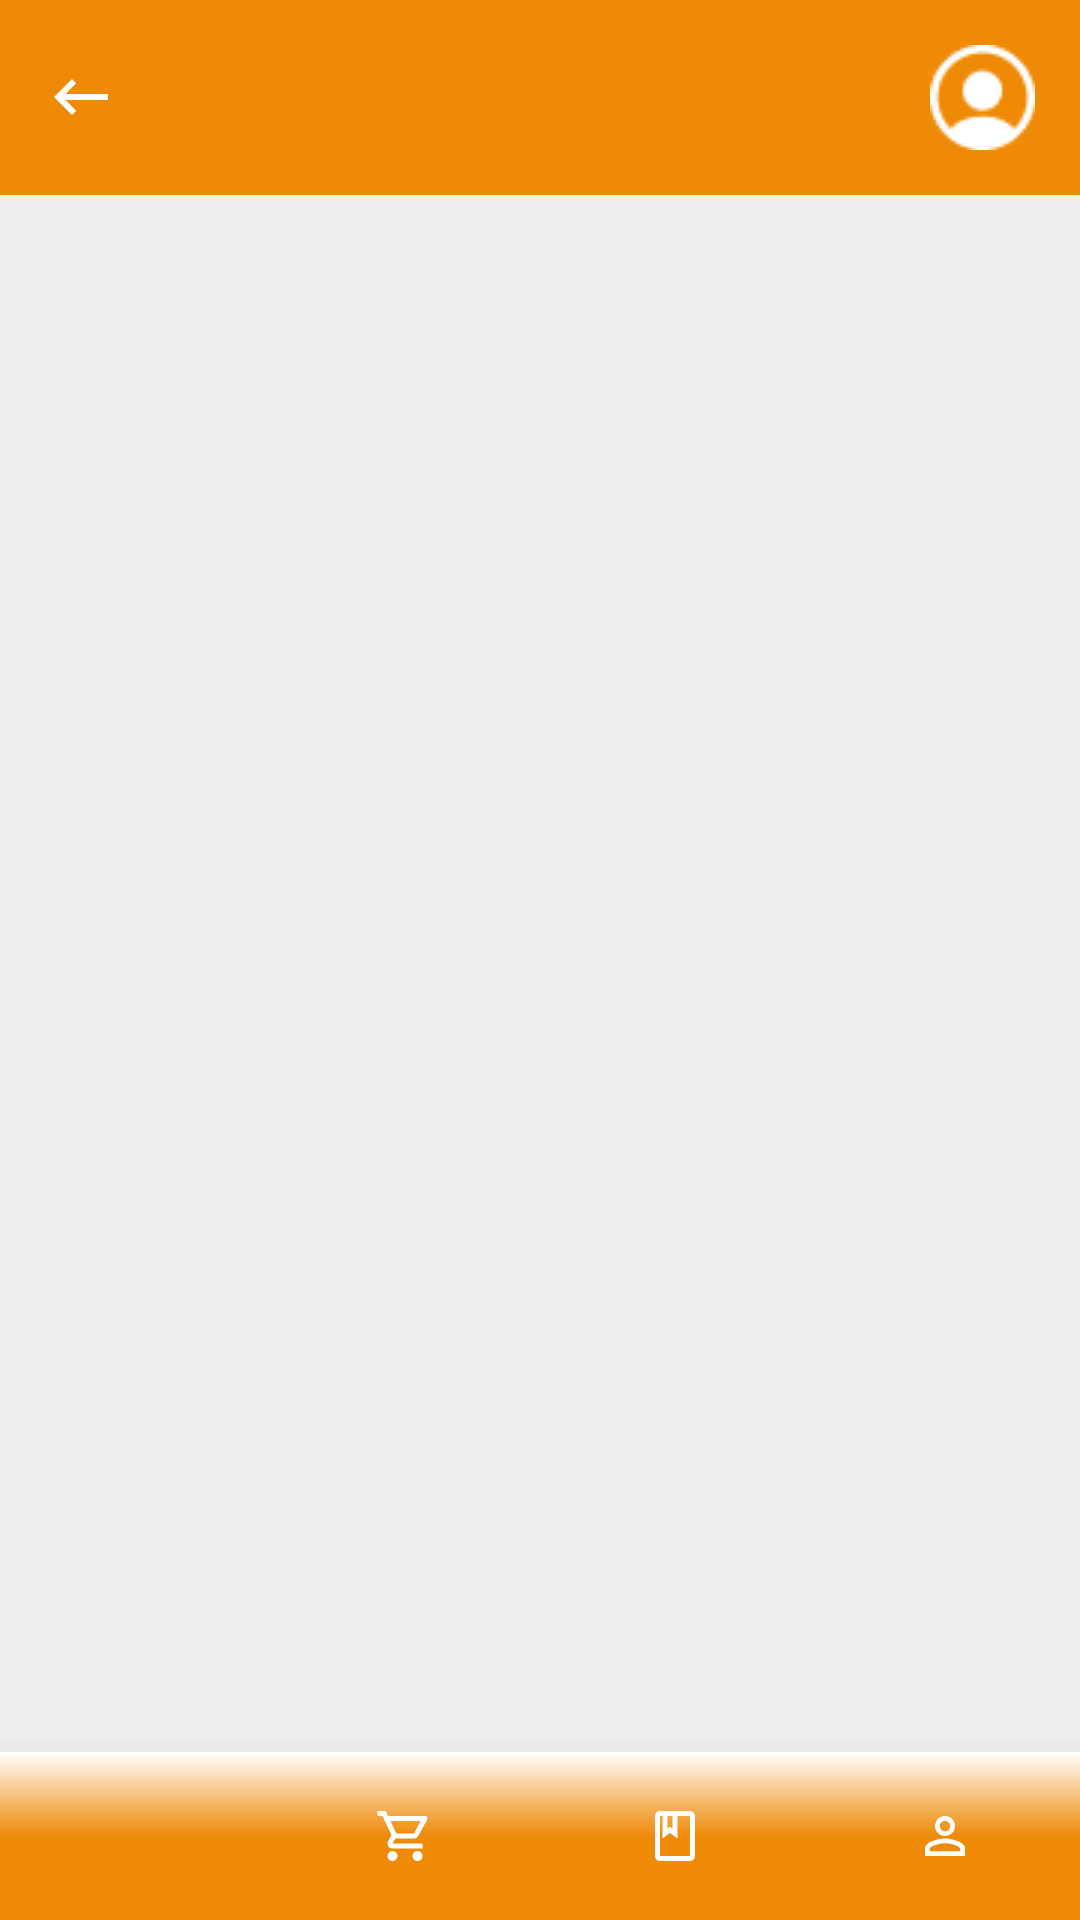

Icon bounding boxes for this 1080*1920 phone screenshot, format (x1, y1, x2, y2):
back: (54, 79, 108, 115)
